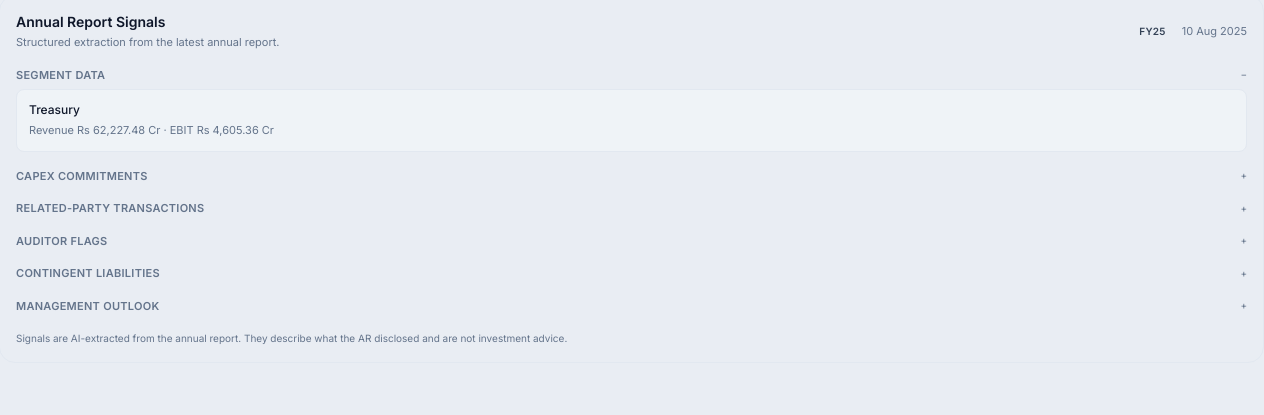
Test: ARSignalsPanel — original six sub-panels › omits the 'Rs Cr' amount line for contingent liabilities when amount_cr is null
The image size is (1264, 415).
Click the button "Contingent liabilities +". click: click(88, 273)
box: [16,265,1247,282]
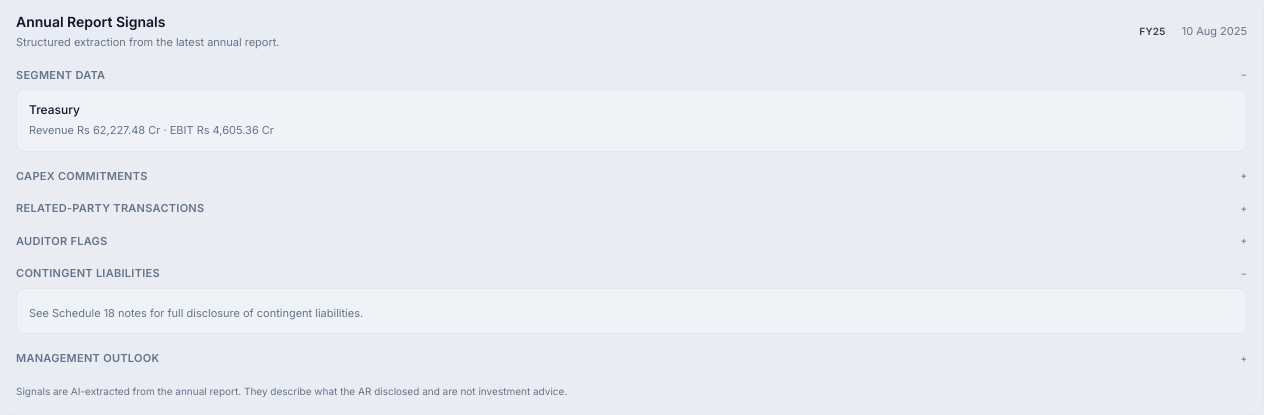
expect the element with test id "ar-section-liabilities" shows "See Schedule 18 notes": met, box [29,306,363,320]
